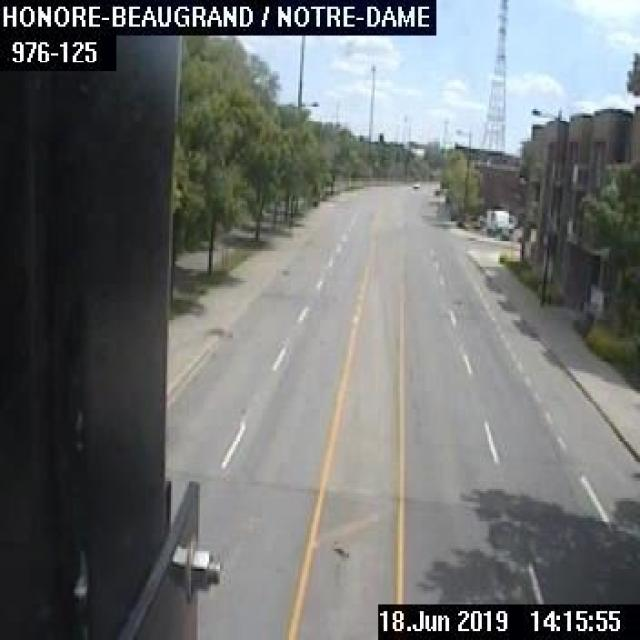vehicle: (409, 180, 420, 189)
